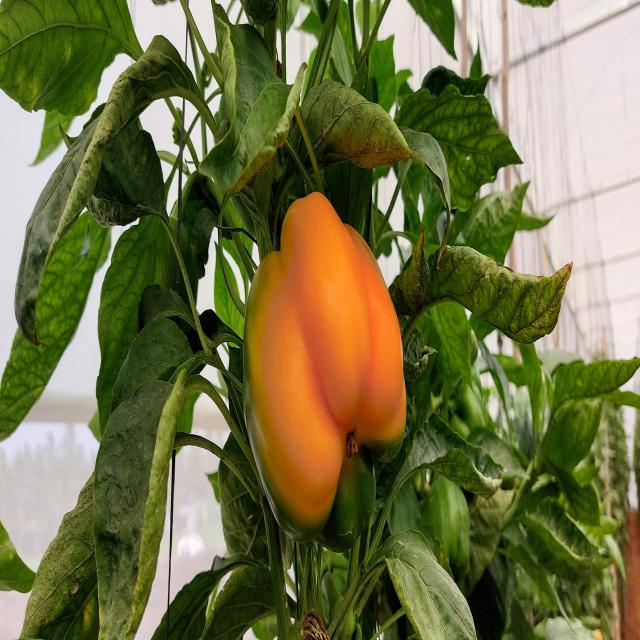Yellow-Ready-to-Harvest: (243, 183, 407, 523)
